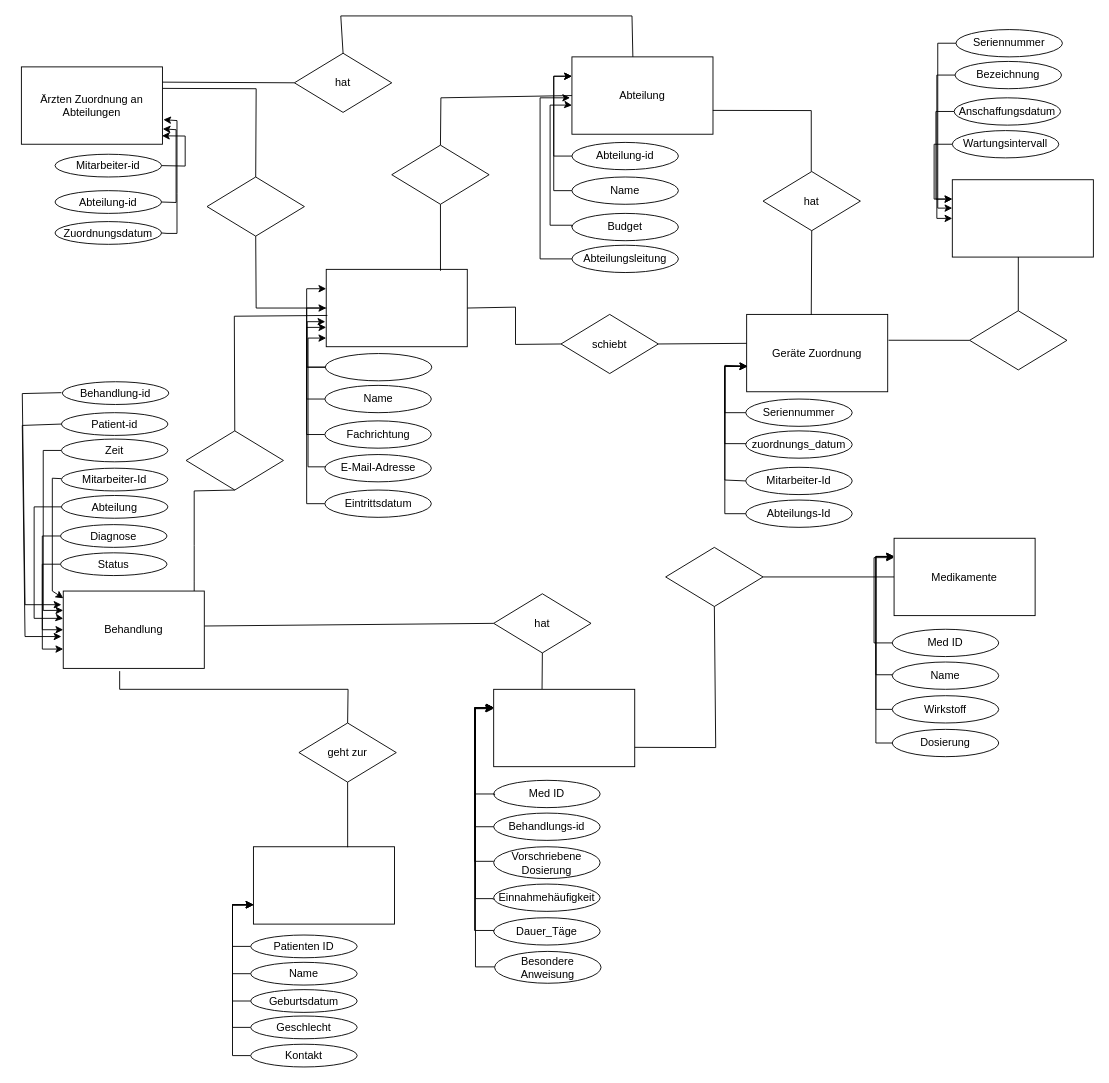
Image size: 1109x1083. Some labels were removed from this diagram. Each missing label, with the box of its shape:
Arzt: (325, 268, 467, 347)
bearbeitet: (185, 430, 283, 490)
befindet in: (969, 310, 1067, 370)
gehört zu: (206, 176, 304, 236)
Geräte: (951, 179, 1093, 257)
leitet: (391, 144, 489, 204)
Medikamentenrezept: (493, 688, 635, 767)
Mitarbeiter ID: (324, 353, 432, 381)
Patienten: (253, 846, 394, 924)
zugeordenet zu: (665, 546, 763, 607)
